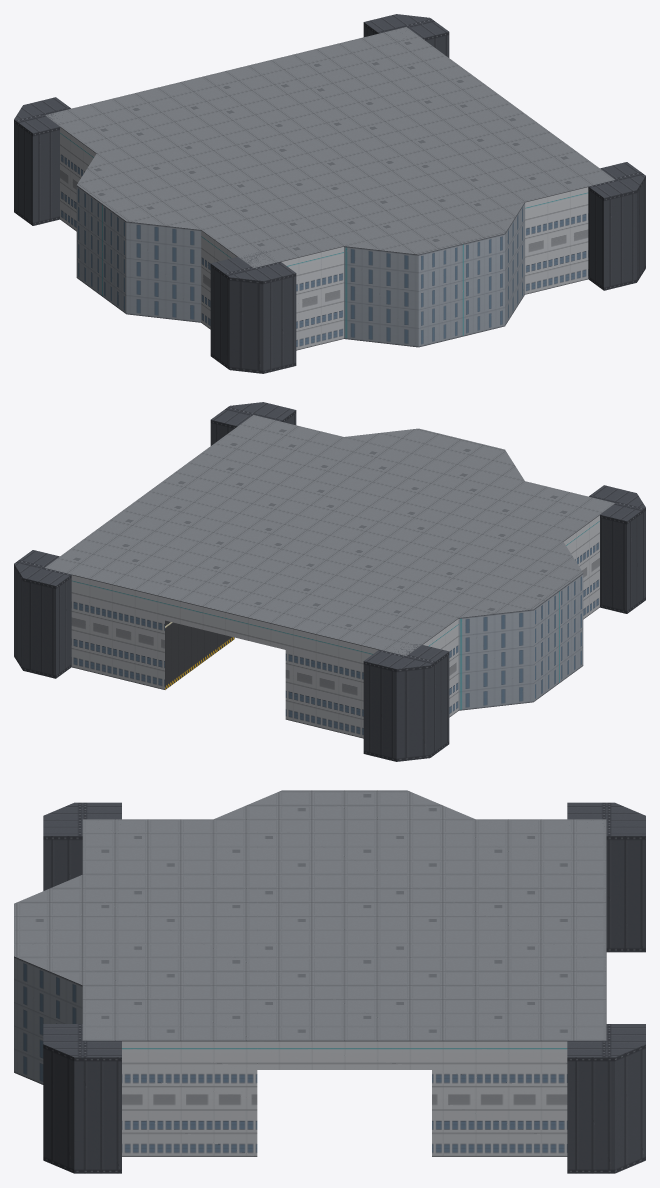
File: BLD_BASE_W_GateL.fbx
3 views of the same model, one above another, from view 1: azimuth 30°, elevation 25°; view 2: azimuth 150°, elevation 25°; view 3: azimuth 270°, elevation 25° (orthographic). The views are drawn at different scales.
Visible parts, largest first — view 1: BLD_BASE_W_GateL; view 2: BLD_BASE_W_GateL; view 3: BLD_BASE_W_GateL.
Part boxes in pixels (x1,y1,x2,y2): BLD_BASE_W_GateL: [14, 14, 645, 373]; BLD_BASE_W_GateL: [14, 402, 645, 761]; BLD_BASE_W_GateL: [14, 790, 645, 1173].
Bounding box in the file's own units: 121 × 24.5 × 121.
